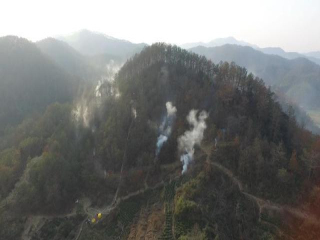smoke: (69, 64, 210, 175)
